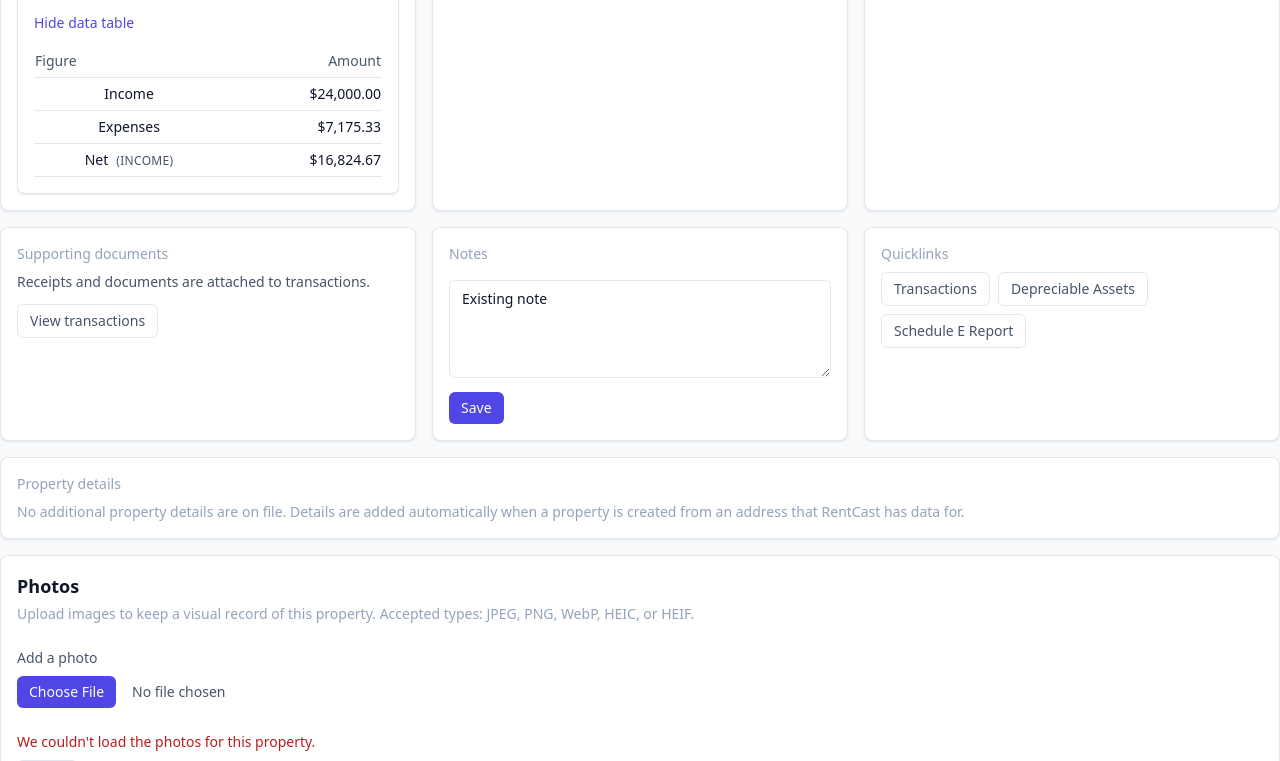
Test: PropertyDetailPage dashboard › loads and saves the property note
The width and height of the screenshot is (1280, 761).
(page scrolled)
Replace the text in the text box named "property note" with "Updated note". click: (640, 329)
box: [449,280,831,378]
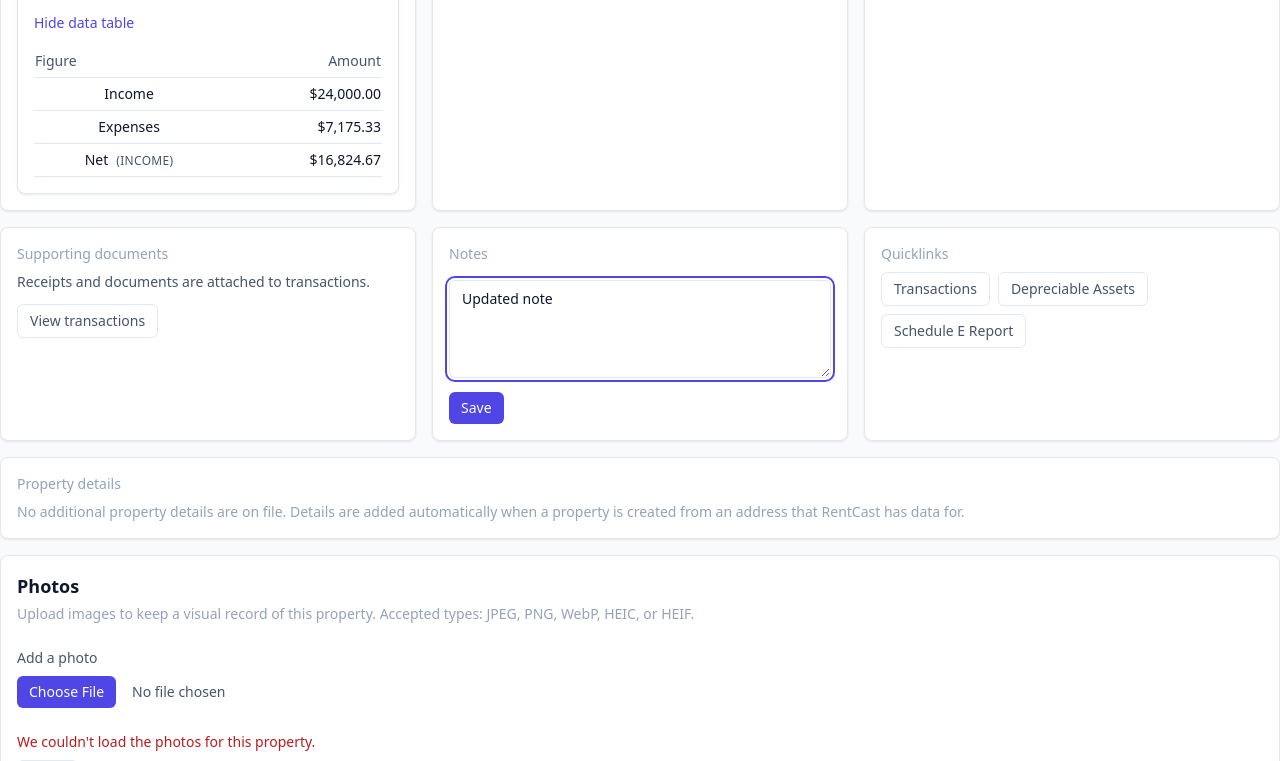
Click the button "Save". click: click(476, 408)
box: [449,392,504,424]
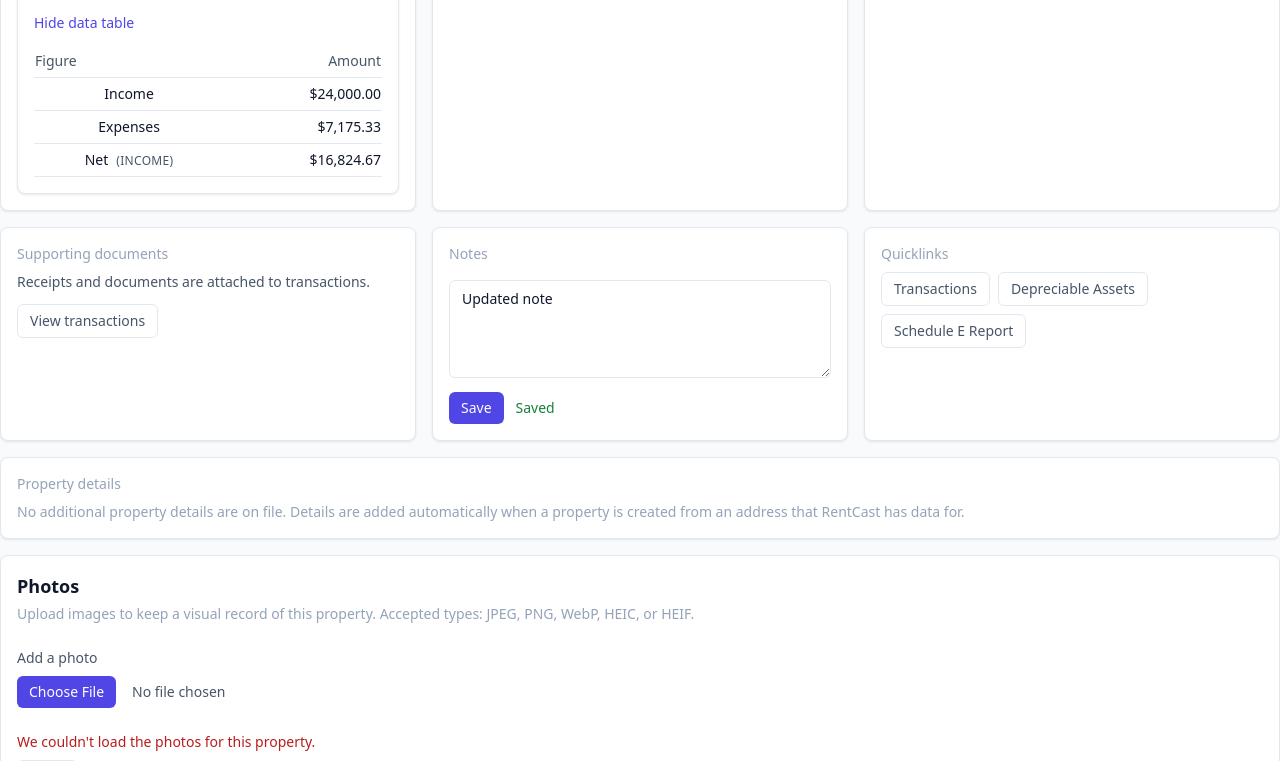
Expected: the text "Saved" is shown, [516,398,555,418]
